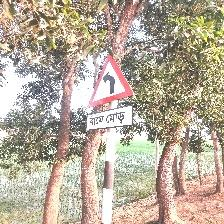Right-turn: (85, 53, 135, 133)
